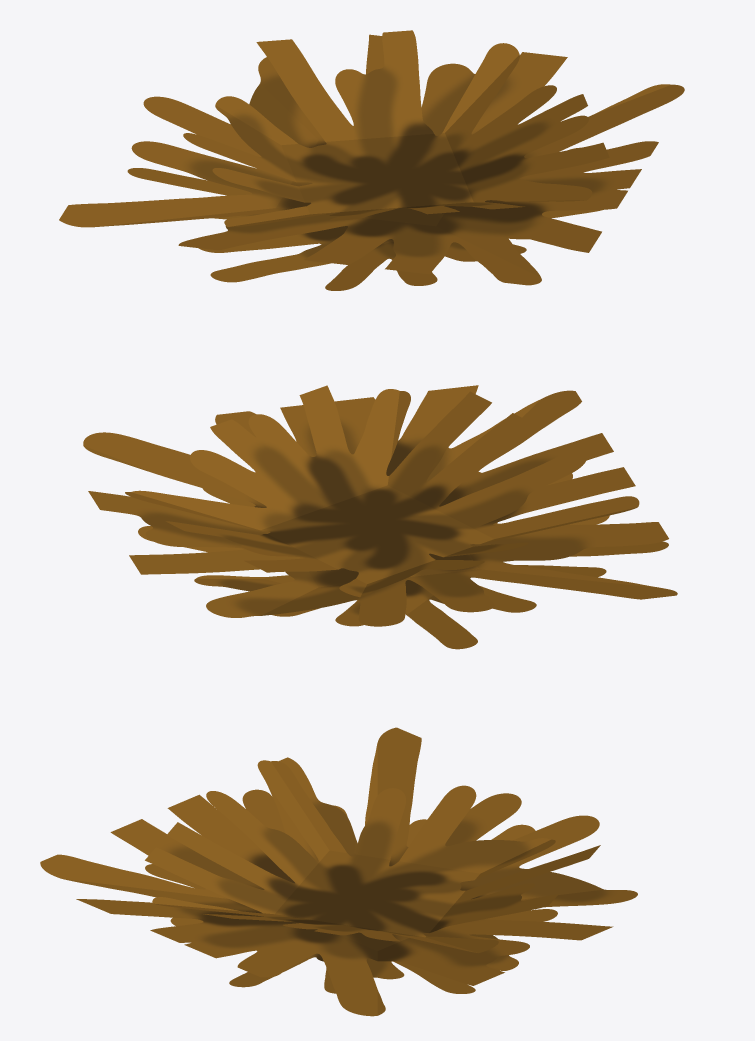
File: Dead_bush.fbx
The picture shows the model from 3 angles, top to bottom: view 1: azimuth 30°, elevation 25°; view 2: azimuth 150°, elevation 25°; view 3: azimuth 270°, elevation 25°; orthographic projection. The views are drawn at different scales.
Visible parts, largest first — view 1: deadbush; view 2: deadbush; view 3: deadbush.
Boxes of the visible parts, bbox=[...] form: deadbush: bbox=[59, 30, 684, 290]; deadbush: bbox=[83, 385, 677, 649]; deadbush: bbox=[40, 727, 637, 1016].
Size of the model in its own units: 283 by 33 by 283.
3 materials, 3 textured.
